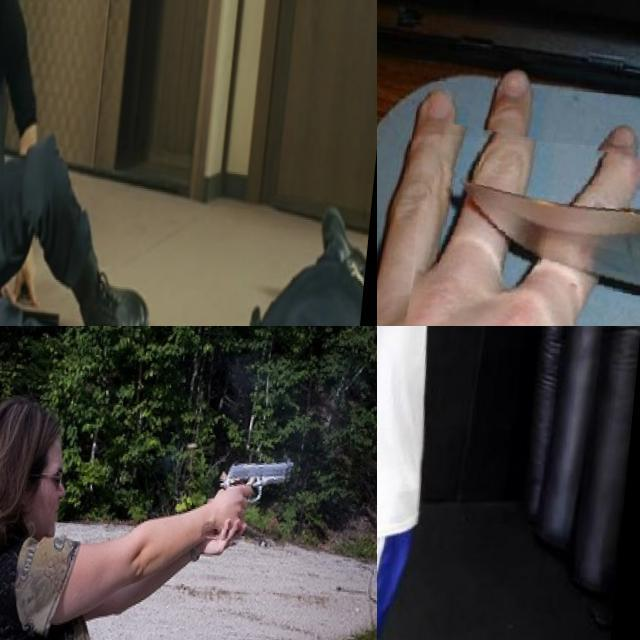-: (409, 130, 640, 326), (377, 326, 414, 378)
gun-knife-thesis - v11 Yolov5 augmented: (208, 440, 306, 542), (0, 186, 29, 321)
